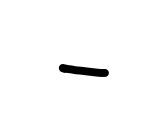minus: (60, 63, 109, 77)
